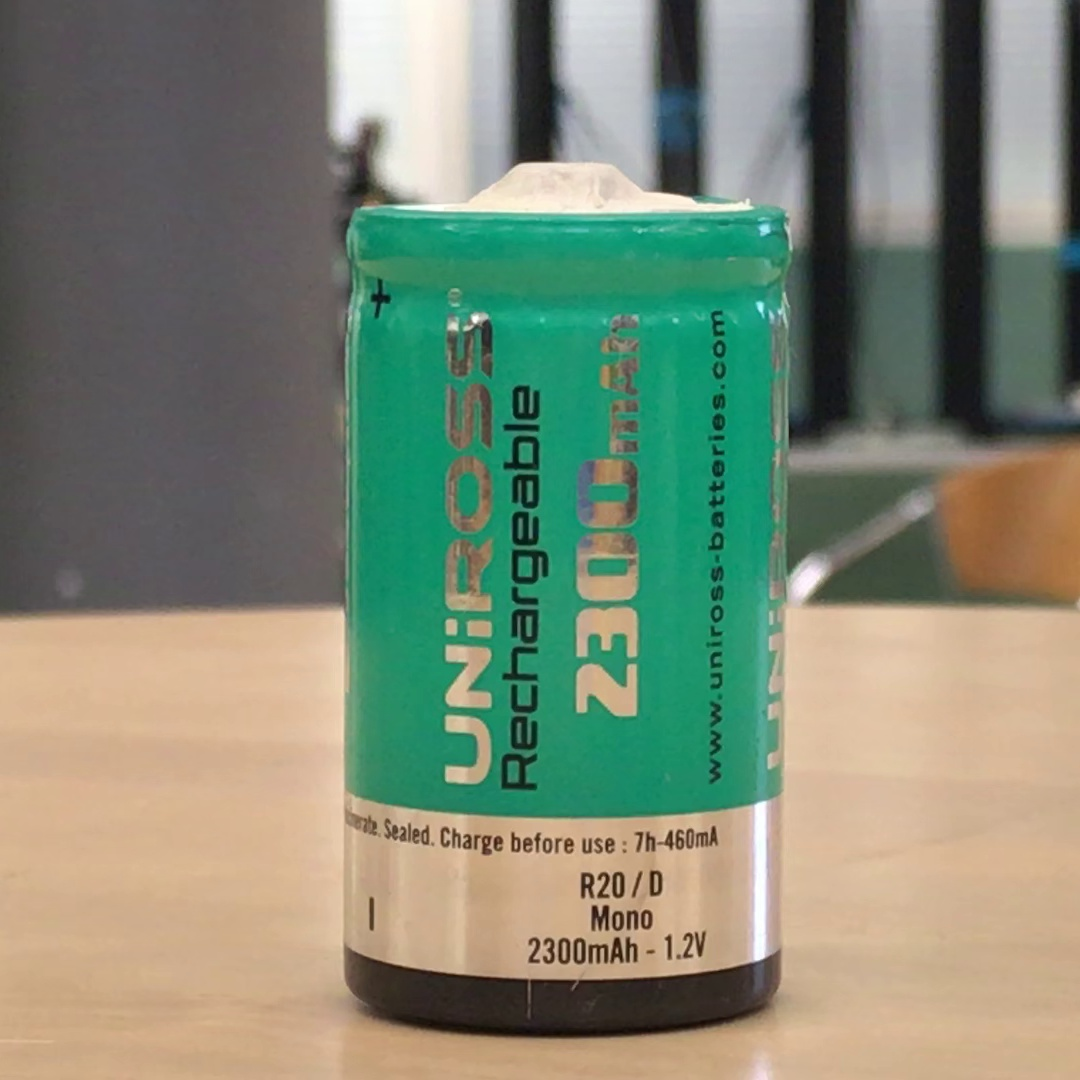keyword: (655, 921, 716, 970)
